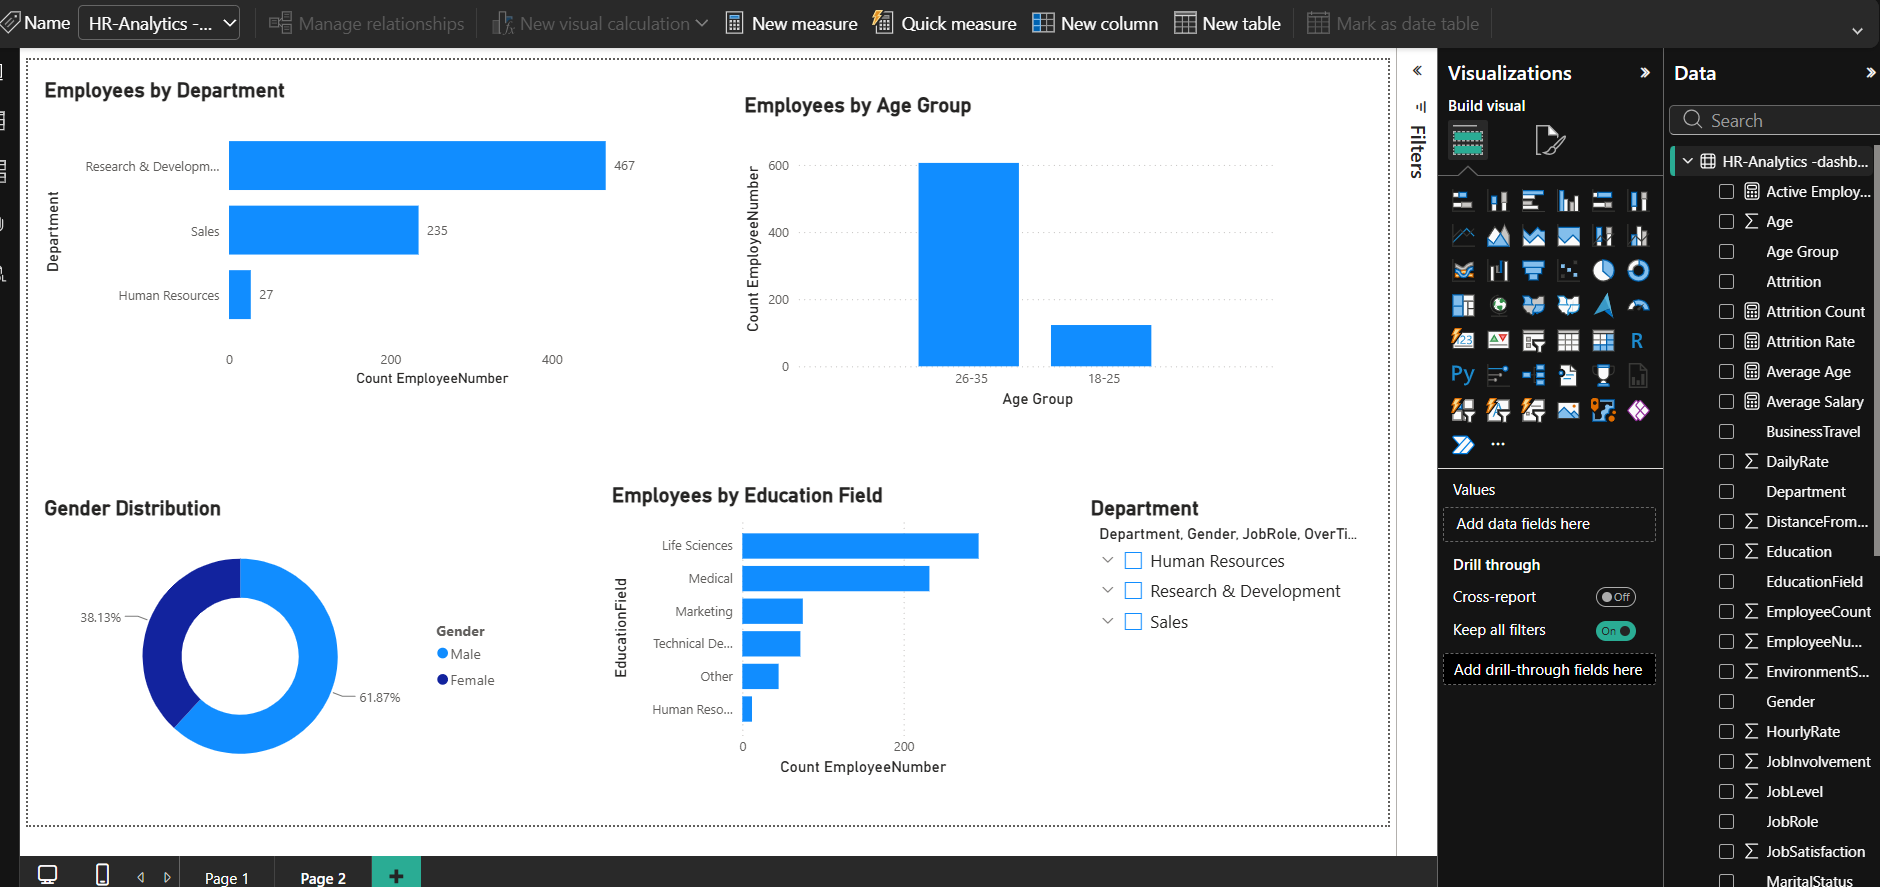

The page's visual inventory and layout, read from the dashboard file:
{"tool":"powerbi","page":{"name":"Page 2","canvas":[1280,720],"ordinal":1},"visuals":[{"type":"clusteredBarChart","title":"Employees by Department","fields":{"Category":["WA_Fn-UseC_-HR-Employee-Attrition.Department"],"Y":["Sum(WA_Fn-UseC_-HR-Employee-Attrition.EmployeeCount)"]},"box":[11.4,31.4,280,280],"z":0},{"type":"donutChart","title":"Gender Distribution","fields":{"Category":["WA_Fn-UseC_-HR-Employee-Attrition.Gender"],"Y":["Sum(WA_Fn-UseC_-HR-Employee-Attrition.EmployeeNumber)"]},"box":[385.7,31.4,280,280],"z":1},{"type":"clusteredColumnChart","title":"Employees by Age Group","fields":{"Category":["WA_Fn-UseC_-HR-Employee-Attrition.Age Group"],"Y":["Sum(WA_Fn-UseC_-HR-Employee-Attrition.EmployeeCount)"]},"box":[762.9,31.4,280,280],"z":2},{"type":"clusteredBarChart","title":"Employees by Education Field","fields":{"Category":["WA_Fn-UseC_-HR-Employee-Attrition.EducationField"],"Y":["Sum(WA_Fn-UseC_-HR-Employee-Attrition.EmployeeCount)"]},"box":[71.4,410,280,280],"z":3},{"type":"slicer","title":"Department","fields":{"Values":["WA_Fn-UseC_-HR-Employee-Attrition.Department","WA_Fn-UseC_-HR-Employee-Attrition.Gender","WA_Fn-UseC_-HR-Employee-Attrition.JobRole","WA_Fn-UseC_-HR-Employee-Attrition.OverTime"]},"box":[525.7,387.1,280,280],"z":4}]}

Visuals, with their boxes on the page's 1280x720 design canvas (x1, y1, x2, y2). These are canvas units, not pixel positions in the 1880x887 screenshot, which may show the page scaled, cropped or inside an application window:
"Employees by Department" clusteredBarChart: l=11, t=31, r=291, b=311
"Gender Distribution" donutChart: l=386, t=31, r=666, b=311
"Employees by Age Group" clusteredColumnChart: l=763, t=31, r=1043, b=311
"Employees by Education Field" clusteredBarChart: l=71, t=410, r=351, b=690
"Department" slicer: l=526, t=387, r=806, b=667
